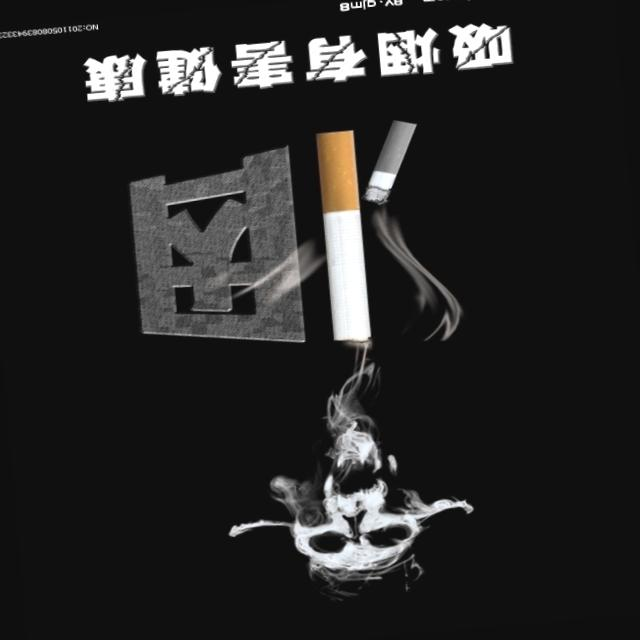cigarette: (304, 126, 378, 348)
